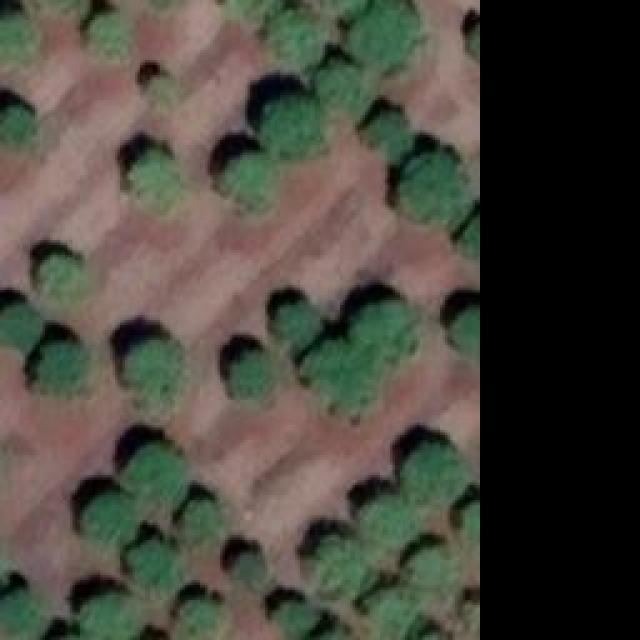Tree: (305, 337, 380, 425), (348, 0, 421, 70), (263, 3, 326, 68), (403, 153, 466, 218), (303, 532, 363, 600), (123, 440, 188, 500), (403, 445, 468, 505), (258, 100, 328, 155), (125, 338, 175, 411), (358, 490, 418, 550), (353, 300, 418, 355), (28, 343, 93, 393), (130, 150, 185, 208), (83, 493, 138, 548), (225, 153, 270, 213), (80, 592, 135, 640), (367, 585, 415, 640), (125, 543, 180, 588), (225, 347, 275, 395), (318, 65, 371, 108), (0, 303, 45, 353), (85, 10, 128, 58), (275, 595, 320, 640), (175, 498, 220, 541), (0, 590, 42, 635), (40, 255, 88, 293), (177, 597, 225, 635), (275, 303, 318, 343), (410, 545, 450, 588), (0, 105, 40, 143), (0, 13, 38, 53), (227, 545, 265, 583), (365, 110, 405, 143), (453, 213, 478, 258), (453, 308, 478, 348), (460, 500, 478, 545), (150, 73, 173, 96)
